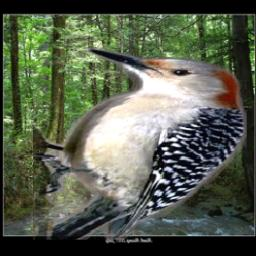Woodpecker: (32, 47, 246, 240)
